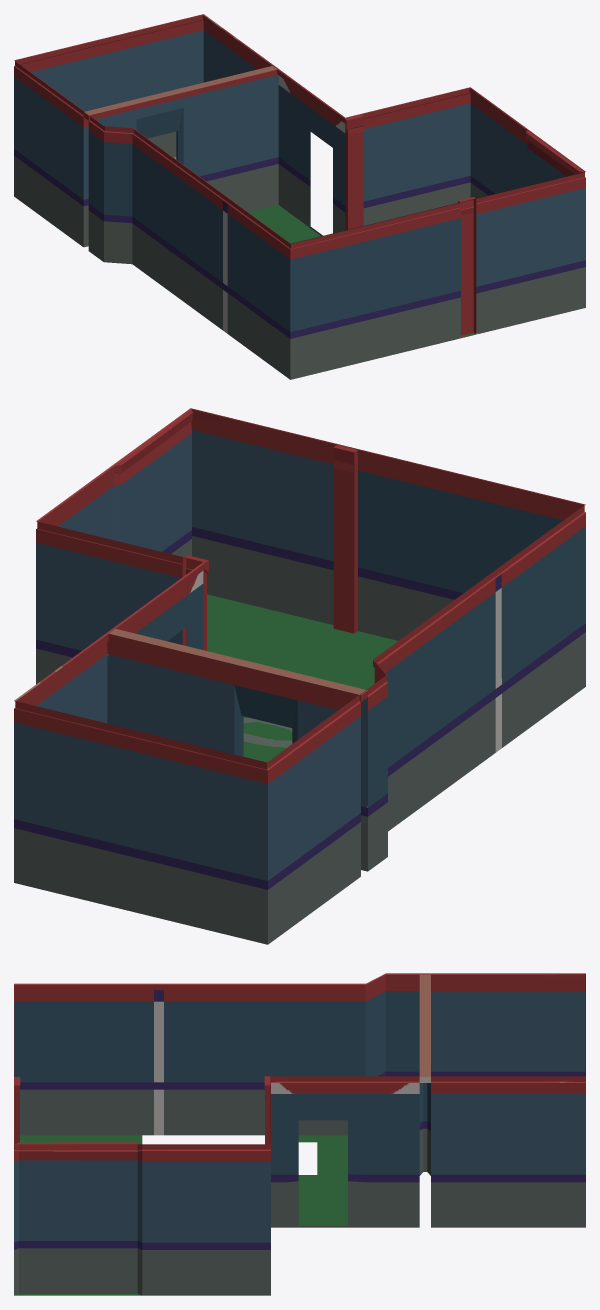
File: M_InHouse_Up.fbx
3 views of the same model, one above another, from view 1: azimuth 30°, elevation 25°; view 2: azimuth 150°, elevation 25°; view 3: azimuth 270°, elevation 25° (orthographic). The views are drawn at different scales.
Parts seen in each view (by area): view 1: House_Up; view 2: House_Up; view 3: House_Up.
Boxes of the visible parts, x1=… form: House_Up: x1=14, y1=14, x2=585, y2=379; House_Up: x1=14, y1=408, x2=585, y2=944; House_Up: x1=14, y1=973, x2=585, y2=1295.
Size of the model in its own units: 681 by 281 by 963.
